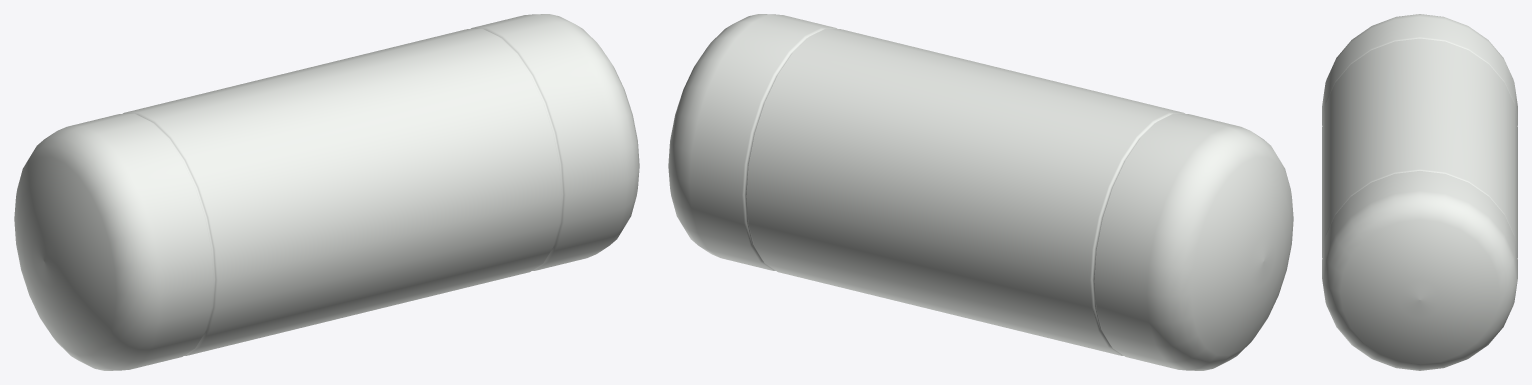
Rendered from utility-process-shell-authored-atlas.glb.
3 views of the same model, side by side, from view 1: azimuth 30°, elevation 25°; view 2: azimuth 150°, elevation 25°; view 3: azimuth 270°, elevation 25° (orthographic). The views are drawn at different scales.
Parts seen in each view (by area): view 1: Authored surface; view 2: Authored surface; view 3: Authored surface.
Part boxes in pixels (x1,y1,x2,y2): Authored surface: (14, 14, 639, 370); Authored surface: (668, 14, 1293, 370); Authored surface: (1322, 14, 1517, 370).
Size of the model in its own units: 13 by 5 by 5.
Materials: 1 (1 with a texture image).
